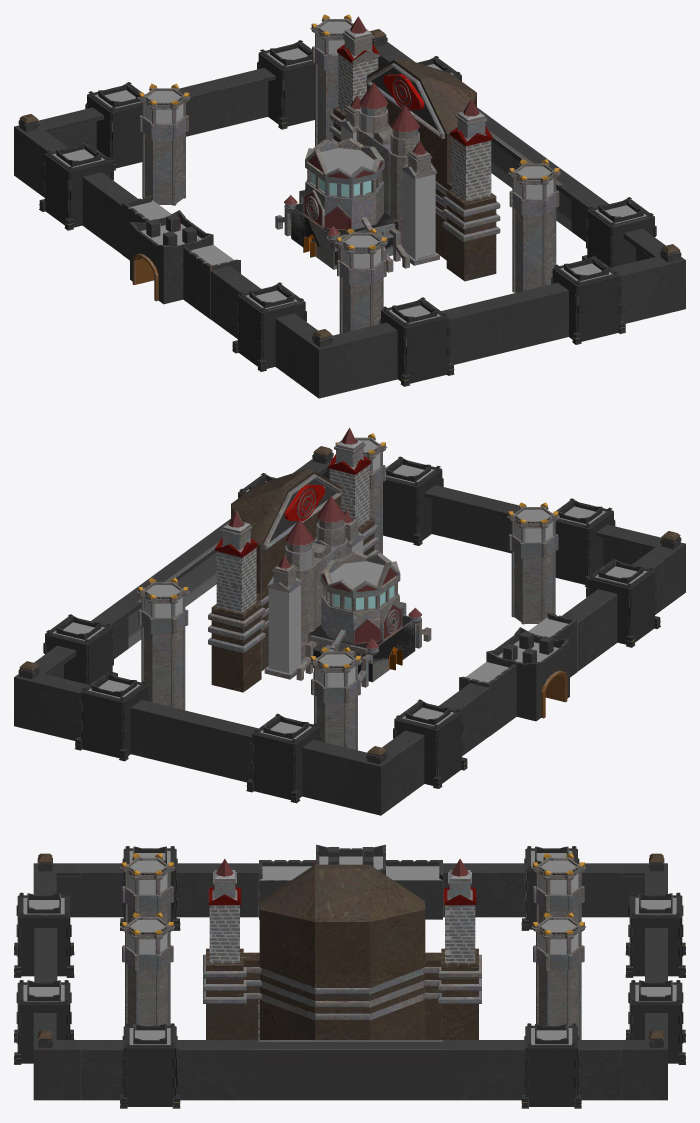
Rendered from castillo_v3.fbx.
3 views of the same model, one above another, from view 1: azimuth 30°, elevation 25°; view 2: azimuth 150°, elevation 25°; view 3: azimuth 270°, elevation 25° (orthographic). The views are drawn at different scales.
Visible parts, largest first — view 1: Cylinder.007; view 2: Cylinder.007; view 3: Cylinder.007.
Boxes of the visible parts, x1,y1,x2,y2 form: Cylinder.007: (14, 14, 685, 398); Cylinder.007: (14, 427, 685, 815); Cylinder.007: (14, 844, 685, 1108).
Size of the model in its own units: 53701 by 22829 by 74046.
